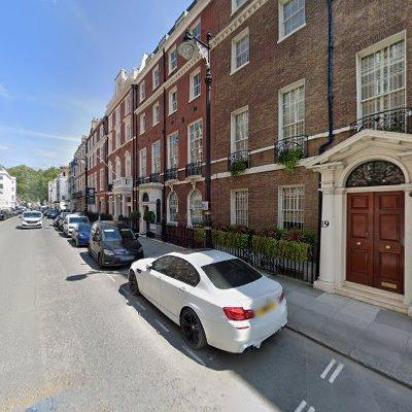moving-light-truck: (19, 210, 44, 230)
stationary-car-onstreet: (127, 247, 290, 357), (71, 221, 94, 246), (56, 212, 70, 232), (47, 208, 59, 220)
stationary-light-truck-onstreet: (89, 219, 143, 273), (63, 214, 89, 236)
